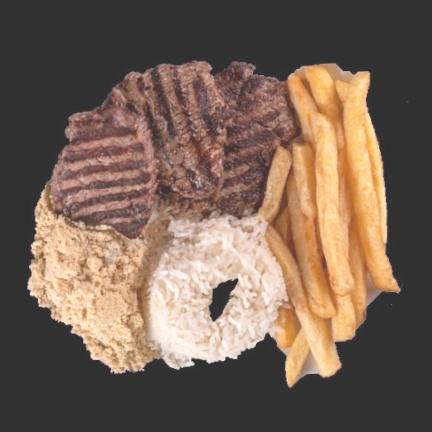meat: (52, 63, 298, 238)
potato: (261, 66, 400, 386)
rice: (146, 216, 287, 366)
